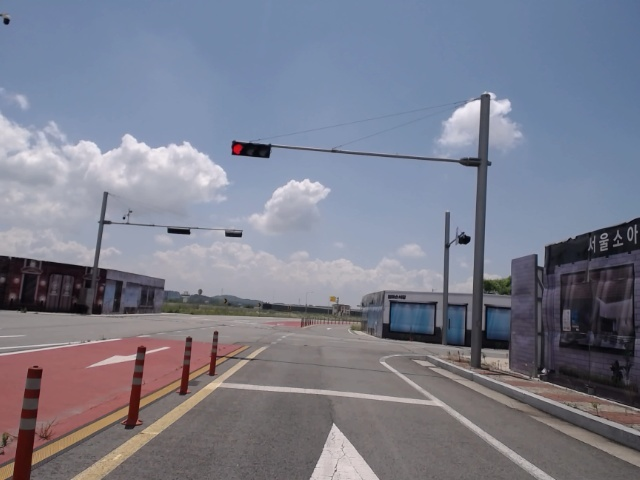red_3: (232, 142, 272, 159)
